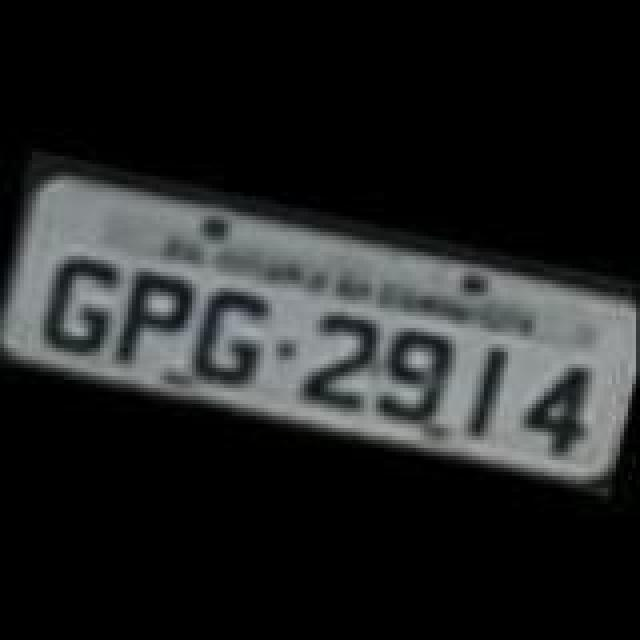1: (458, 334, 514, 438)
2: (296, 306, 388, 418)
4: (514, 348, 602, 460)
9: (366, 322, 454, 434)
G: (32, 248, 124, 360), (184, 282, 276, 394)
P: (108, 264, 200, 376)
